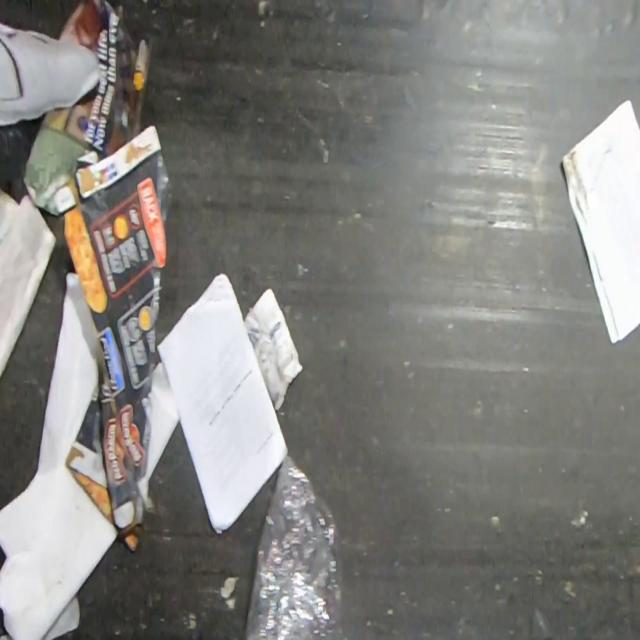cardboard: (62, 123, 171, 554)
soft_plastic: (242, 454, 349, 640)
